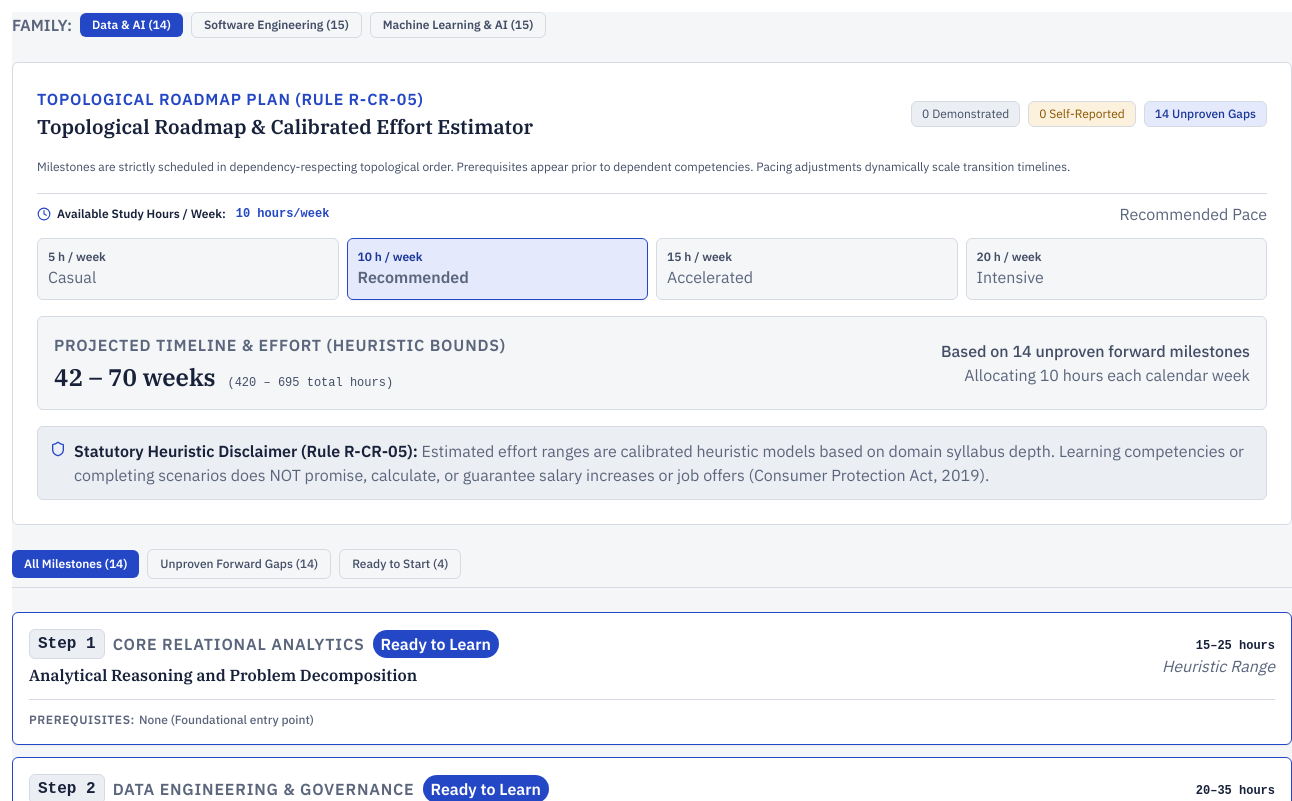
Test case: RoadmapView (T15.31 Topological Roadmap & Effort Estimator) › dynamically recalibrates cumulative timeline when pacing options are selected
Expected: the heading with test id "projected-timeline" shows "weeks", [137, 360, 215, 392]
Switch to 20 hours / week (Intensive)
Click the radio button labelled "20 h / week Intensive" at (1016,256), box [966, 238, 1267, 300]
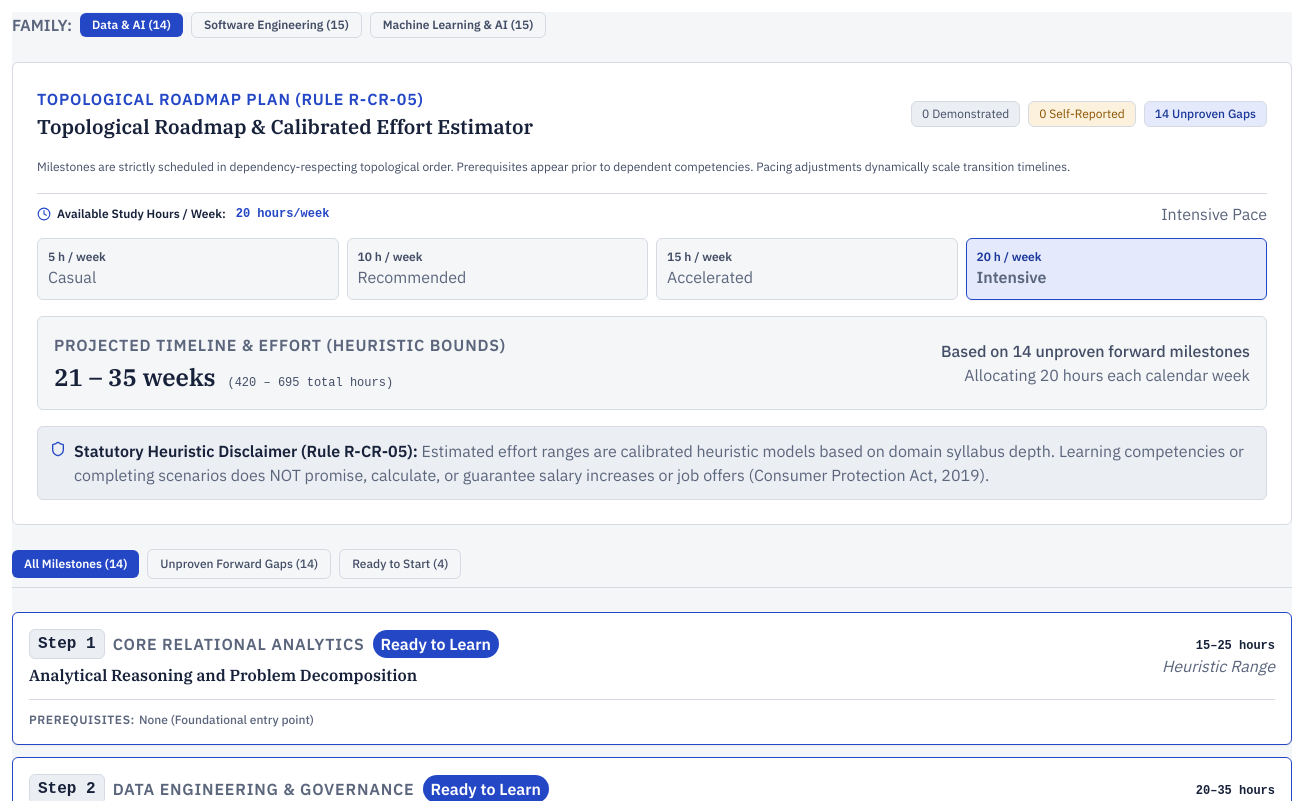
Expected: the text "20 hours/week" is shown, [236, 206, 329, 222]
Switch to 5 hours / week (Casual)
Click the radio button labelled "5 h / week Casual" at (81,256), box [37, 238, 338, 300]
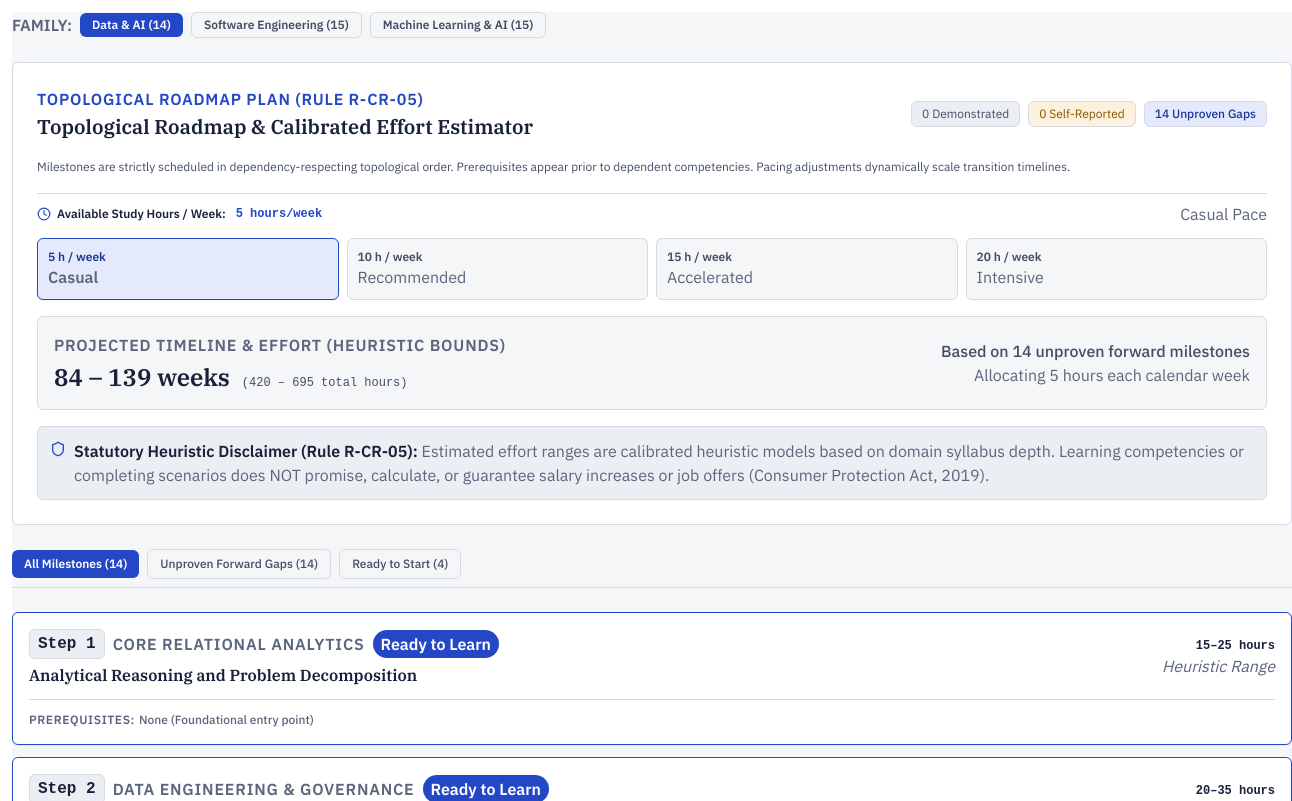
Expected: the text "5 hours/week" is shown, [236, 206, 322, 222]
